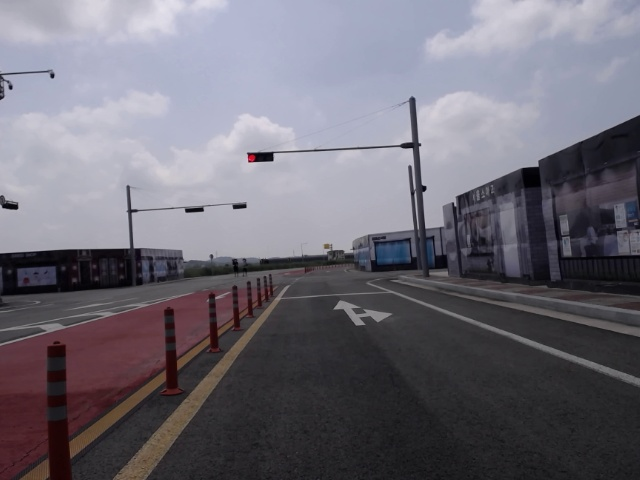red_3: (248, 152, 274, 162)
